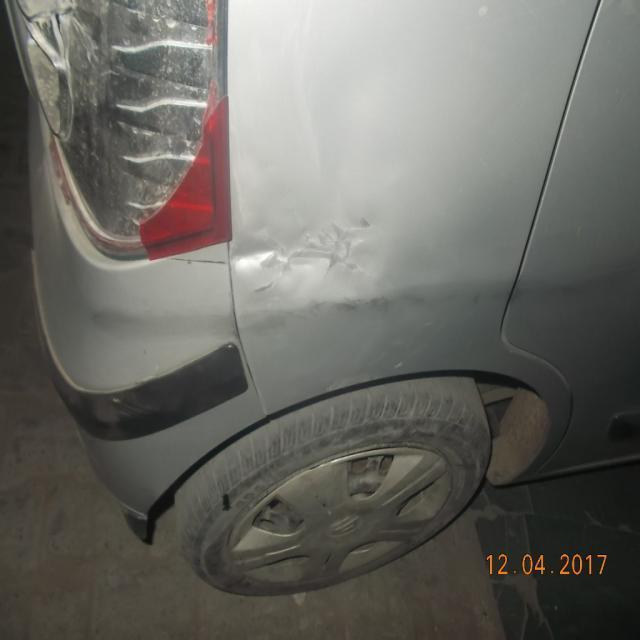quaterpanel-dent: (223, 0, 518, 442)
